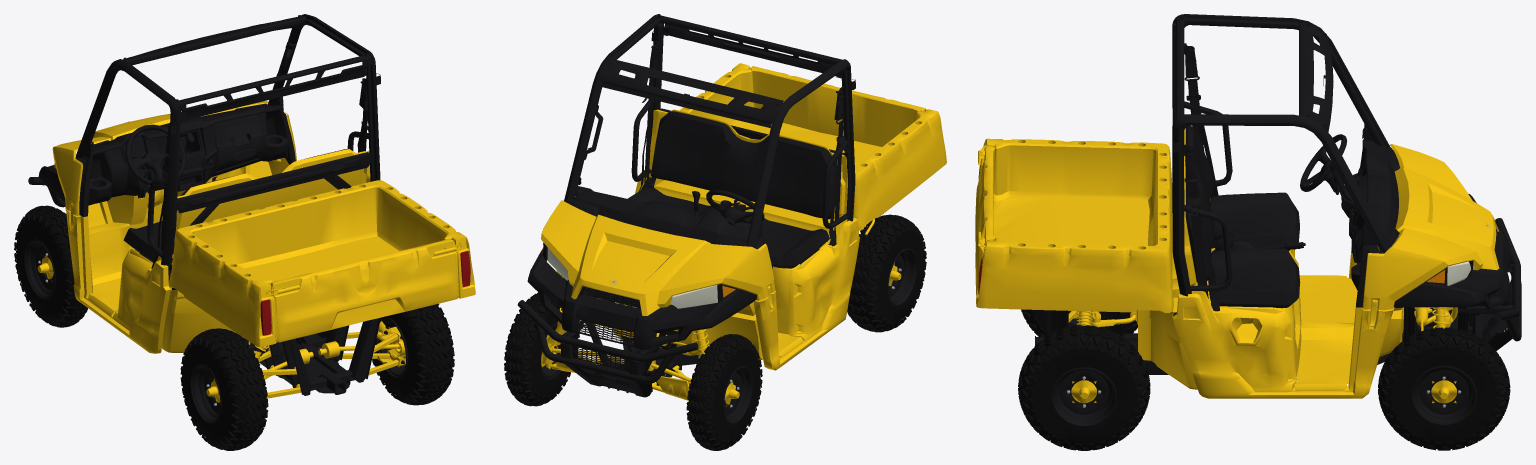
The model's file is ranger_ev.glb.
3 views of the same model, side by side, from view 1: azimuth 30°, elevation 25°; view 2: azimuth 150°, elevation 25°; view 3: azimuth 270°, elevation 25° (orthographic). The views are drawn at different scales.
Visible parts, largest first — view 1: Body, BedShell, Wheel_Tyres, Wheel_Rims; view 2: Body, Wheel_Tyres, BedShell, Wheel_Rims; view 3: Body, BedShell, Wheel_Tyres, Wheel_Rims.
Boxes of the visible parts, x1,y1,x2,y2 form: Body: (28,14,405,402); BedShell: (168,180,475,346); Wheel_Tyres: (14,205,454,450); Wheel_Rims: (24,239,408,423); Body: (517,14,901,406); Wheel_Tyres: (504,214,926,450); BedShell: (680,63,946,235); Wheel_Rims: (540,248,917,424); Body: (1035,14,1521,403); BedShell: (975,138,1173,313); Wheel_Tyres: (1018,261,1510,450); Wheel_Rims: (1051,308,1476,427).
Bounding box in the file's own units: 1.54 × 2.07 × 3.05.
